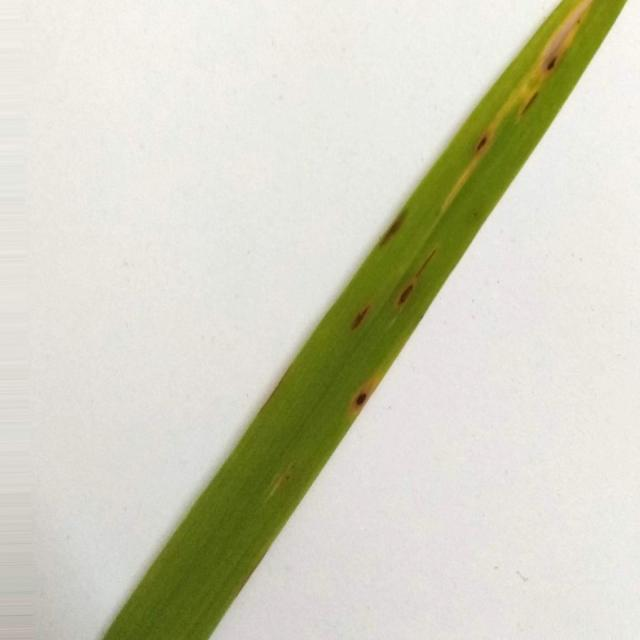Brown_Spot: (379, 210, 406, 246), (418, 249, 436, 274), (521, 91, 539, 114), (351, 306, 369, 328), (399, 285, 412, 303), (544, 55, 558, 71), (355, 392, 368, 405), (478, 136, 487, 149)
